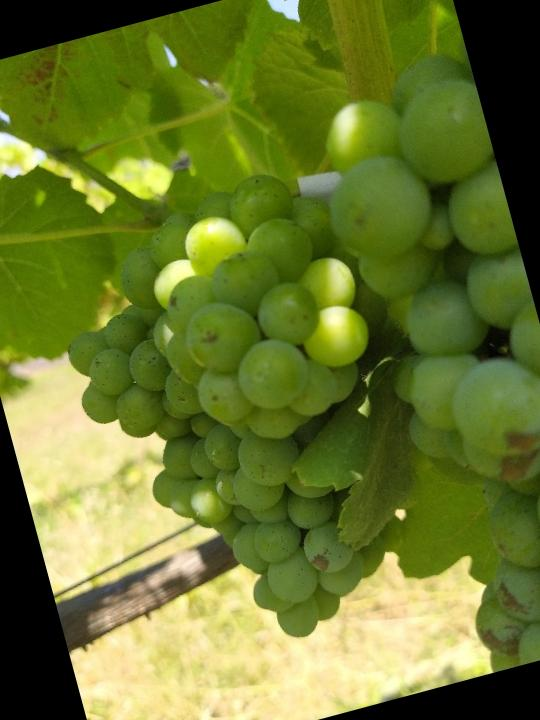grape: (31, 153, 452, 680)
